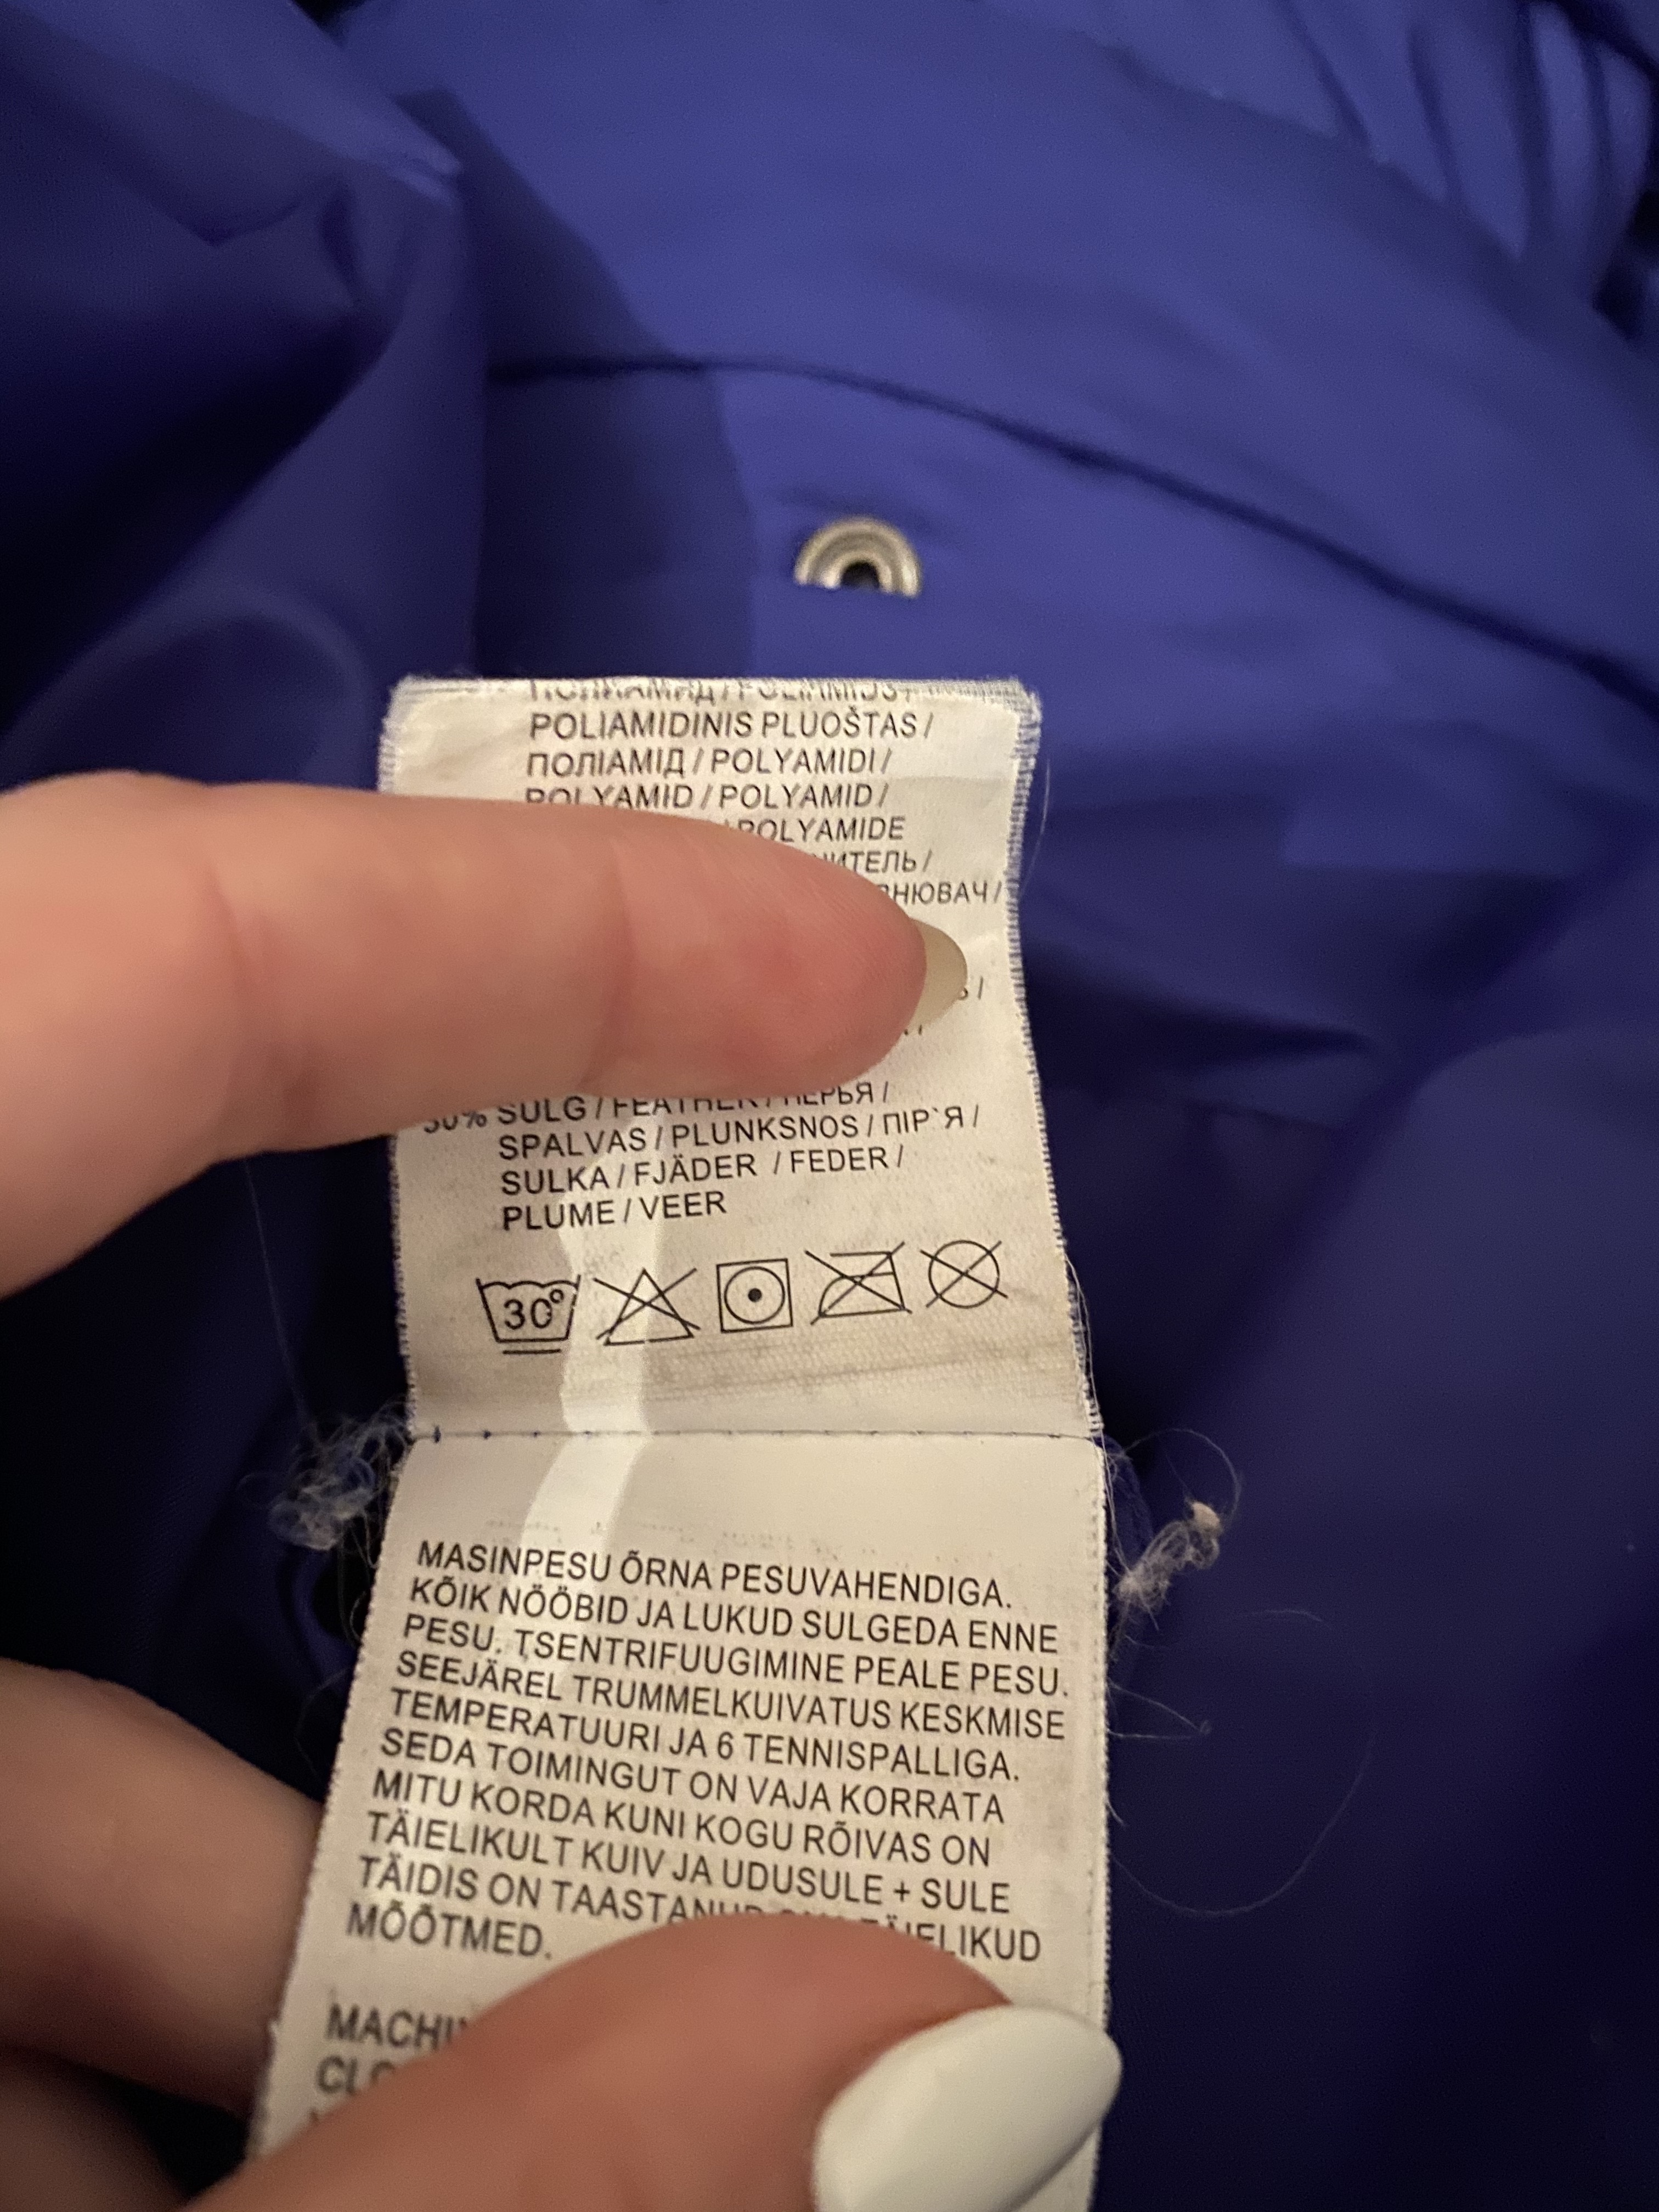do_not_bleach: (592, 1259, 706, 1357)
do_not_dry_clean: (915, 1233, 1012, 1320)
do_not_iron: (805, 1233, 913, 1329)
tumble_drying_low_temps: (716, 1252, 798, 1341)
wash_at_or_below_30_mild_fine_wash: (469, 1266, 589, 1362)
